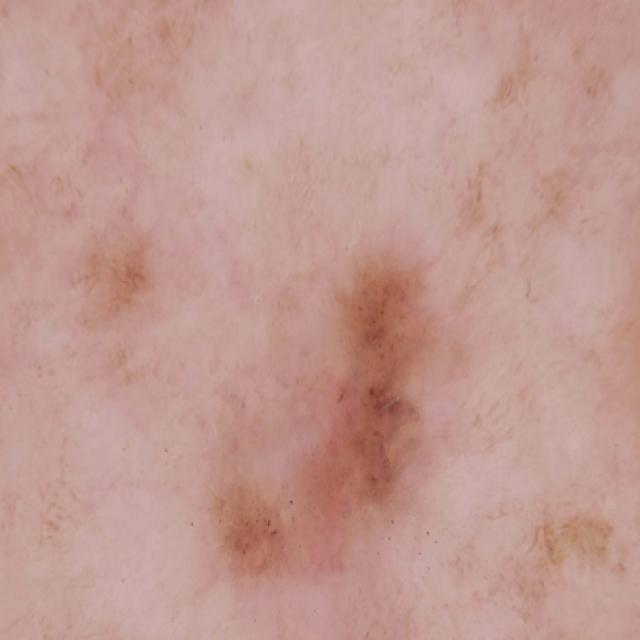Carcinoma: (179, 228, 495, 611)
